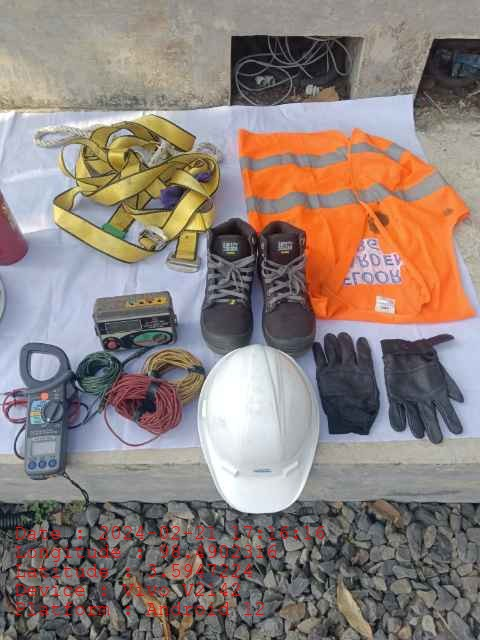HELM: (197, 345, 319, 512)
SARUNG TANGAN: (383, 340, 465, 444)
SEPATU: (204, 219, 314, 347)
